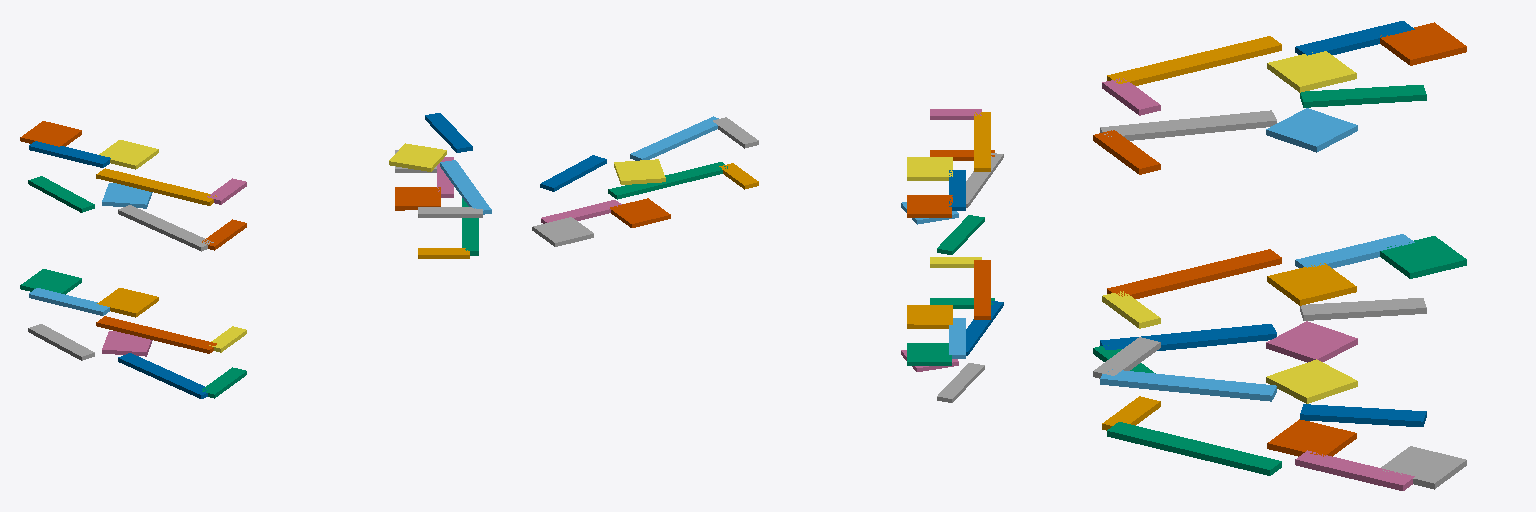
--- Render facts (derived) ---
Views: 3 orthographic renders of the robot side by side, from view 1: azimuth 30°, elevation 25°; view 2: azimuth 150°, elevation 25°; view 3: azimuth 270°, elevation 25°.
Robot: robotiq_hand — 41 links, 40 joints (39 revolute, 1 fixed); root link base_link; default pose: every joint at zero.
Visible links, largest first — view 1: l_finger_2_link_paraproximal_bar, l_finger_1_link_paraproximal_bar, l_finger_1_link_proximal_actuating_bar, l_finger_2_link_proximal_actuating_bar, l_finger_middle_link_median_actuating_hinge, l_finger_2_link_paramedian_hinge, l_finger_1_link_paramedian_hinge, l_finger_middle_link_proximal_actuating_bar, l_finger_1_link_paradistal_hinge, l_finger_middle_link_paramedian_hinge, l_finger_2_link_paradistal_hinge, l_finger_2_link_median_actuating_hinge (+11 smaller); view 2: l_finger_middle_link_paraproximal_bar, l_finger_middle_link_proximal_actuating_bar, l_finger_middle_link_paradistal_hinge, l_finger_middle_link_paramedian_hinge, l_finger_2_link_paramedian_hinge, l_finger_middle_link_median_actuating_hinge, l_finger_1_link_paramedian_hinge, l_finger_1_link_paradistal_hinge, l_finger_2_link_paraproximal_bar, l_finger_1_link_paraproximal_bar, l_finger_2_link_paradistal_hinge, l_finger_middle_link_median_bar (+9 smaller); view 3: l_finger_middle_link_paraproximal_bar, l_finger_1_link_paraproximal_bar, l_finger_2_link_paraproximal_bar, l_finger_middle_link_proximal_actuating_bar, l_finger_1_link_proximal_actuating_bar, l_finger_1_link_median_actuating_hinge, l_finger_middle_link_median_actuating_hinge, l_finger_2_link_paramedian_hinge, l_finger_2_link_median_actuating_hinge, l_finger_1_link_paramedian_hinge, l_finger_2_link_proximal_actuating_bar, l_finger_2_link_paradistal_hinge (+14 smaller).
Link boxes in pixels (bbox=[...]): l_finger_2_link_paraproximal_bar: bbox=[96, 316, 216, 353]; l_finger_1_link_paraproximal_bar: bbox=[96, 168, 216, 205]; l_finger_1_link_proximal_actuating_bar: bbox=[118, 205, 213, 251]; l_finger_2_link_proximal_actuating_bar: bbox=[118, 353, 208, 398]; l_finger_middle_link_median_actuating_hinge: bbox=[389, 143, 446, 171]; l_finger_2_link_paramedian_hinge: bbox=[97, 288, 158, 317]; l_finger_1_link_paramedian_hinge: bbox=[99, 140, 158, 169]; l_finger_middle_link_proximal_actuating_bar: bbox=[440, 160, 491, 214]; l_finger_1_link_paradistal_hinge: bbox=[20, 121, 81, 146]; l_finger_middle_link_paramedian_hinge: bbox=[395, 187, 440, 210]; l_finger_2_link_paradistal_hinge: bbox=[20, 269, 81, 294]; l_finger_2_link_median_actuating_hinge: bbox=[102, 331, 152, 356]; l_finger_middle_link_paraproximal_bar: bbox=[608, 162, 727, 199]; l_finger_middle_link_proximal_actuating_bar: bbox=[630, 116, 718, 160]; l_finger_middle_link_paradistal_hinge: bbox=[532, 217, 593, 246]; l_finger_middle_link_paramedian_hinge: bbox=[610, 198, 670, 227]; l_finger_2_link_paramedian_hinge: bbox=[907, 305, 952, 328]; l_finger_middle_link_median_actuating_hinge: bbox=[614, 159, 665, 184]; l_finger_1_link_paramedian_hinge: bbox=[907, 157, 952, 180]; l_finger_1_link_paradistal_hinge: bbox=[907, 195, 952, 217]; l_finger_2_link_paraproximal_bar: bbox=[974, 260, 990, 319]; l_finger_1_link_paraproximal_bar: bbox=[974, 112, 990, 171]; l_finger_2_link_paradistal_hinge: bbox=[907, 343, 951, 365]; l_finger_middle_link_median_bar: bbox=[540, 155, 606, 191]; l_finger_middle_link_paraproximal_bar: bbox=[1107, 422, 1281, 475]; l_finger_1_link_paraproximal_bar: bbox=[1107, 36, 1281, 85]; l_finger_2_link_paraproximal_bar: bbox=[1107, 249, 1281, 298]; l_finger_middle_link_proximal_actuating_bar: bbox=[1100, 369, 1276, 401]; l_finger_1_link_proximal_actuating_bar: bbox=[1100, 110, 1276, 140]; l_finger_1_link_median_actuating_hinge: bbox=[1266, 108, 1357, 152]; l_finger_middle_link_median_actuating_hinge: bbox=[1266, 359, 1357, 403]; l_finger_2_link_paramedian_hinge: bbox=[1267, 263, 1356, 305]; l_finger_2_link_median_actuating_hinge: bbox=[1266, 321, 1357, 362]; l_finger_1_link_paramedian_hinge: bbox=[1267, 51, 1356, 92]; l_finger_2_link_proximal_actuating_bar: bbox=[1100, 324, 1276, 350]; l_finger_2_link_paradistal_hinge: bbox=[1380, 236, 1466, 278].
Size in the robot's own frame: 0.2168 by 0.1145 by 0.094 metres.
Meshes: 5 distinct files referenced, 0 mesh visuals loaded (none loaded); not drawn: 13 (reference not matched to a file when rendering).

URDF robot description (robotiq_hand):
<?xml version="1.0" ?>
<!-- =================================================================================== -->
<!-- |    This document was autogenerated by xacro from src/robotiq_s_model_visualization/cfg/robotiq_hand.urdf.xacro | -->
<!-- |    EDITING THIS FILE BY HAND IS NOT RECOMMENDED                                 | -->
<!-- =================================================================================== -->
<robot name="robotiq_hand" xmlns:xacro="http://www.ros.org/wiki/xacro">
  <link name="base_link"/>
  <!-- joint attaching parent link to robotiq hand -->
  <joint name="l_robotiq_hand_joint" type="fixed">
    <origin rpy="0 0 0" xyz="0 0 0"/>
    <parent link="base_link"/>
    <child link="l_palm"/>
  </joint>
  <!-- Insert the fingers -->
  <!-- Link list -->
  <!-- Link 0 -->
  <link name="l_finger_1_link_0">
    <visual>
      <origin rpy="0 0 0" xyz="0 0 0"/>
      <geometry>
        <mesh filename="package://robotiq_s_model_visualization/meshes/s-model_articulated/visual/link_0.STL"/>
      </geometry>
      <material name="green">
        <color rgba="0 1 0 1"/>
      </material>
    </visual>
    <collision>
      <origin rpy="0 0 0" xyz="0 0 0"/>
      <geometry>
        <mesh filename="package://robotiq_s_model_visualization/meshes/s-model_articulated/collision/link_0.STL"/>
      </geometry>
      <material name="yellow">
        <color rgba="0 1 1 1"/>
      </material>
    </collision>
    <inertial>
      <mass value="0.1"/>
      <origin xyz="-0.01 0 0"/>
      <inertia ixx="0.000018" ixy="0" ixz="0" iyy="0.000025" iyz="0" izz="0.000025"/>
    </inertial>
  </link>
  <gazebo reference="l_finger_1_link_0">
    <mu1>1.1</mu1>
    <mu2>1.1</mu2>
  </gazebo>
  <!-- Link 1 -->
  <link name="l_finger_1_link_1">
    <visual>
      <origin rpy="0 0 1.5708" xyz="0 0.05717 0"/>
      <geometry>
        <mesh filename="package://robotiq_s_model_visualization/meshes/s-model_articulated/visual/link_1.STL"/>
      </geometry>
      <material name="green"/>
    </visual>
    <collision>
      <origin rpy="0 0 1.5708" xyz="0 0.05717 0"/>
      <geometry>
        <mesh filename="package://robotiq_s_model_visualization/meshes/s-model_articulated/collision/link_1.STL"/>
      </geometry>
      <material name="yellow">
        <color rgba="0 1 1 1"/>
      </material>
    </collision>
    <inertial>
      <origin rpy="0 0 1.5708" xyz="0.00053 0.03218 0"/>
      <mass value="0.047"/>
      <inertia ixx="0.00000499332" ixy="0.00000091312" ixz="-0.00000000120" iyy="0.00006434531" iyz="-0.00000000007" izz="0.00006061917"/>
    </inertial>
  </link>
  <gazebo reference="l_finger_1_link_1">
    <mu1>1.1</mu1>
    <mu2>1.1</mu2>
  </gazebo>
  <!-- Link 2 -->
  <link name="l_finger_1_link_2">
    <visual>
      <origin rpy="0 0 1.5708" xyz="0 0.03810 0.0075"/>
      <geometry>
        <mesh filename="package://robotiq_s_model_visualization/meshes/s-model_articulated/visual/link_2.STL"/>
      </geometry>
      <material name="green"/>
    </visual>
    <collision>
      <origin rpy="0 0 1.5708" xyz="0 0.03810 0.0075"/>
      <geometry>
        <mesh filename="package://robotiq_s_model_visualization/meshes/s-model_articulated/collision/link_2.STL"/>
      </geometry>
      <material name="yellow"/>
    </collision>
    <inertial>
      <origin rpy="0 0 1.5708" xyz="0.00048 0.02167 0.00018"/>
      <mass value="0.03284"/>
      <inertia ixx="0.00000348008" ixy="0.00000031940" ixz="0.00000013041" iyy="0.00002248123" iyz="0.00000000291" izz="0.00001986346"/>
    </inertial>
  </link>
  <gazebo reference="l_finger_1_link_2">
    <mu1>1.1</mu1>
    <mu2>1.1</mu2>
  </gazebo>
  <!-- Link 3 -->
  <link name="l_finger_1_link_3">
    <visual>
      <origin rpy="0 0 0" xyz="0 0 0"/>
      <geometry>
        <mesh filename="package://robotiq_s_model_visualization/meshes/s-model_articulated/visual/link_3.STL"/>
      </geometry>
      <material name="green"/>
    </visual>
    <collision>
      <origin rpy="0 0 0" xyz="0 0 0"/>
      <geometry>
        <mesh filename="package://robotiq_s_model_visualization/meshes/s-model_articulated/collision/link_3.STL"/>
      </geometry>
      <material name="yellow"/>
    </collision>
    <inertial>
      <origin rpy="0 0 0" xyz="0.01626 0.00049 0.0002"/>
      <mass value="0.03354"/>
      <inertia ixx="0.00000305151" ixy="0.00000089792" ixz="0.00000000249" iyy="0.00001427978" iyz="-0.00000001191" izz="0.00001264126"/>
    </inertial>
  </link>
  <gazebo reference="l_finger_1_link_3">
    <mu1>1.1</mu1>
    <mu2>1.1</mu2>
  </gazebo>
  <!-- Link proximal actuating hinge -->
  <link name="l_finger_1_link_proximal_actuating_hinge">
    <visual>
      <origin rpy="0 0 0" xyz="0.01429 0 0"/>
      <geometry>
        <box size="0.02858 .0075 .002"/>
      </geometry>
    </visual>
    <collision>
      <origin rpy="0 0 0" xyz="0.01429 0 0"/>
      <geometry>
        <box size="0.02858 .0075 .002"/>
      </geometry>
    </collision>
    <inertial>
      <origin rpy="0 0 0" xyz="0.0012 -0.00162 -0.00161"/>
      <mass value="0.02647"/>
      <inertia ixx="0.00000156447" ixy="0.000000236226" ixz="-0.00000014862" iyy="0.00000221068" iyz="-0.00000014369" izz="0.00000323175"/>
    </inertial>
  </link>
  <gazebo reference="l_finger_1_link_proximal_actuating_hinge">
    <mu1>1.1</mu1>
    <mu2>1.1</mu2>
  </gazebo>
  <!-- Link paraproximal actuating hinge -->
  <link name="l_finger_1_link_paraproximal_actuating_hinge">
    <visual>
      <origin rpy="0 0 0" xyz="0.01143 0 0"/>
      <geometry>
        <box size="0.02286 .0075 .002"/>
      </geometry>
    </visual>
    <collision>
      <origin rpy="0 0 0" xyz="0.01143 0 0"/>
      <geometry>
        <box size="0.02286 .0075 .002"/>
      </geometry>
    </collision>
    <inertial>
      <origin rpy="0 0 0" xyz="0.0064 0 0"/>
      <!-- copied from proximal_actuating_hinge -->
      <mass value="0.00362"/>
      <inertia ixx="0.00000012043" ixy="0" ixz="0" iyy="0.00000053588" iyz="0" izz="0.00000065322"/>
    </inertial>
  </link>
  <gazebo reference="l_finger_1_link_paraproximal_actuating_hinge">
    <mu1>1.1</mu1>
    <mu2>1.1</mu2>
  </gazebo>
  <!-- Link proximal actuating bar -->
  <link name="l_finger_1_link_proximal_actuating_bar">
    <visual>
      <origin rpy="0 0 0" xyz="0.026789 0 0"/>
      <geometry>
        <box size="0.05398 .0075 .002"/>
      </geometry>
    </visual>
    <collision>
      <origin rpy="0 0 0" xyz="0.026789 0 0"/>
      <geometry>
        <box size="0.05398 .0075 .002"/>
      </geometry>
    </collision>
    <inertial>
      <origin rpy="0 0 0" xyz="0.02699 -0.00122 0"/>
      <mass value="0.00659"/>
      <inertia ixx="0.00000008348" ixy="-0.0000002179" ixz="0.00000000134" iyy="0.00000719076" iyz="0" izz="0.00000718272"/>
    </inertial>
  </link>
  <gazebo reference="l_finger_1_link_proximal_actuating_bar">
    <mu1>1.1</mu1>
    <mu2>1.1</mu2>
  </gazebo>
  <!-- Link paraproximal bar -->
  <link name="l_finger_1_link_paraproximal_bar">
    <visual>
      <origin rpy="0 0 0" xyz="0.02885 0 0"/>
      <geometry>
        <box size="0.05770 .0075 .002"/>
      </geometry>
    </visual>
    <collision>
      <origin rpy="0 0 0" xyz="0.02885 0 0"/>
      <geometry>
        <box size="0.05770 .0075 .002"/>
      </geometry>
    </collision>
    <inertial>
      <origin rpy="0 0 0" xyz="0.02858 -0.00129 0"/>
      <mass value="0.00732"/>
      <inertia ixx="0.00000009065" ixy="-0.00000027047" ixz="0.00000000142" iyy="0.00000878034" iyz="0" izz="0.00000877558"/>
    </inertial>
  </link>
  <gazebo reference="l_finger_1_link_paraproximal_bar">
    <mu1>1.1</mu1>
    <mu2>1.1</mu2>
  </gazebo>
  <!-- Link median actuating hinge -->
  <link name="l_finger_1_link_median_actuating_hinge">
    <visual>
      <origin rpy="0 0 0" xyz="0 0 0"/>
      <geometry>
        <box size=".02 .02 .002"/>
      </geometry>
    </visual>
    <collision>
      <origin rpy="0 0 0" xyz="0 0 0"/>
      <geometry>
        <box size=".02 .02 .002"/>
      </geometry>
    </collision>
    <inertial>
      <origin rpy="0 0 0" xyz="0.0092 0.00514 0"/>
      <mass value="0.00359"/>
      <inertia ixx="0.00000024735" ixy="0.00000023619" ixz="0" iyy="0.00000047681" iyz="0" izz="0.00000071813"/>
    </inertial>
  </link>
  <gazebo reference="l_finger_1_link_median_actuating_hinge">
    <mu1>1.1</mu1>
    <mu2>1.1</mu2>
  </gazebo>
  <!-- Link median bar -->
  <link name="l_finger_1_link_median_bar">
    <visual>
      <origin rpy="0 0 0" xyz="0.01905 0 0"/>
      <geometry>
        <box size="0.0381 .0075 .002"/>
      </geometry>
    </visual>
    <collision>
      <origin rpy="0 0 0" xyz="0.01905 0 0"/>
      <geometry>
        <box size="0.0381 .0075 .002"/>
      </geometry>
    </collision>
    <inertial>
      <origin rpy="0 0 0" xyz="0.01905 -0.00107 0"/>
      <mass value="0.00538"/>
      <inertia ixx="0.00000006639" ixy="-0.00000010996" ixz="0.00000000094" iyy="0.00000305318" iyz="0" izz="0.00000304657"/>
    </inertial>
  </link>
  <gazebo reference="l_finger_1_link_median_bar">
    <mu1>1.1</mu1>
    <mu2>1.1</mu2>
  </gazebo>
  <!-- Link paramedian hinge -->
  <link name="l_finger_1_link_paramedian_hinge">
    <visual>
      <origin rpy="0 0 0" xyz="0 0 0"/>
      <geometry>
        <box size=".02 .02 .002"/>
      </geometry>
    </visual>
    <collision>
      <origin rpy="0 0 0" xyz="0 0 0"/>
      <geometry>
        <box size=".02 .02 .002"/>
      </geometry>
    </collision>
    <inertial>
      <origin rpy="0 0 0" xyz="-0.01025 0.00046 0"/>
      <mass value="0.00276"/>
      <inertia ixx="0.00000004213" ixy="-0.00000001491" ixz="0" iyy="0.00000050258" iyz="0" izz="0.00000054007"/>
    </inertial>
  </link>
  <gazebo reference="l_finger_1_link_paramedian_hinge">
    <mu1>1.1</mu1>
    <mu2>1.1</mu2>
  </gazebo>
  <!-- Link median bar underactuated -->
  <link name="l_finger_1_link_median_bar_underactuated">
    <visual>
      <origin rpy="0 0 0" xyz="0.01905 0 0"/>
      <geometry>
        <box size="0.0381 .0075 .002"/>
      </geometry>
    </visual>
    <collision>
      <origin rpy="0 0 0" xyz="0.01905 0 0"/>
      <geometry>
        <box size="0.0381 .0075 .002"/>
      </geometry>
    </collision>
    <inertial>
      <origin rpy="0 0 0" xyz="0.01905 -0.00107 0"/>
      <mass value="0.00538"/>
      <inertia ixx="0.00000006639" ixy="-0.00000010996" ixz="-0.00000000094" iyy="0.00000305318" iyz="0" izz="0.00000304657"/>
    </inertial>
  </link>
  <gazebo reference="l_finger_1_link_median_bar_underactuated">
    <mu1>1.1</mu1>
    <mu2>1.1</mu2>
  </gazebo>
  <!-- Link paradistal hinge -->
  <link name="l_finger_1_link_paradistal_hinge">
    <visual>
      <origin rpy="0 0 0" xyz="0 0 0"/>
      <geometry>
        <box size=".02 .02 .002"/>
      </geometry>
    </visual>
    <collision>
      <origin rpy="0 0 0" xyz="0 0 0"/>
      <geometry>
        <box size=".02 0.02 .002"/>
      </geometry>
    </collision>
    <inertial>
      <origin rpy="0 0 0" xyz="0.00548 0 0"/>
      <mass value="0.00158"/>
      <inertia ixx="0.00000001907" ixy="0" ixz="0" iyy="0.00000010970" iyz="0" izz="0.00000012610"/>
    </inertial>
  </link>
  <gazebo reference="l_finger_1_link_paradistal_hinge">
    <mu1>1.1</mu1>
    <mu2>1.1</mu2>
  </gazebo>
  <!-- End of link list -->
  <!-- Joint list -->
  <!-- Joint proximal actuating hinge -->
  <joint name="l_finger_1_joint_proximal_actuating_hinge" type="revolute">
    <parent link="l_finger_1_link_0"/>
    <child link="l_finger_1_link_proximal_actuating_hinge"/>
    <axis xyz="0 0 1"/>
    <origin rpy="0 0 -2.0906" xyz="0 0 0.01"/>
    <limit effort="100" lower="-3.1416" upper="3.1416" velocity="100"/>
  </joint>
  <gazebo reference="l_finger_1_joint_proximal_actuating_hinge">
    <implicitSpringDamper>1</implicitSpringDamper>
  </gazebo>
  <!-- Joint paraproximal actuating hinge -->
  <joint name="l_finger_1_joint_paraproximal_actuating_hinge" type="revolute">
    <parent link="l_finger_1_link_0"/>
    <child link="l_finger_1_link_paraproximal_actuating_hinge"/>
    <axis xyz="0 0 1"/>
    <origin rpy="0 0 -2.0906" xyz="0 0 -0.01"/>
    <limit effort="100" lower="-3.1416" upper="3.1416" velocity="100"/>
  </joint>
  <gazebo reference="l_finger_1_joint_paraproximal_actuating_hinge">
    <implicitSpringDamper>1</implicitSpringDamper>
  </gazebo>
  <!-- Joint proximal actuating bar -->
  <joint name="l_finger_1_joint_proximal_actuating_bar" type="revolute">
    <parent link="l_finger_1_link_proximal_actuating_hinge"/>
    <child link="l_finger_1_link_proximal_actuating_bar"/>
    <axis xyz="0 0 1"/>
    <origin rpy="0 0 1.8616" xyz="0.02858 0 0"/>
    <limit effort="100" lower="-3.1416" upper="3.1416" velocity="100"/>
  </joint>
  <gazebo reference="l_finger_1_joint_proximal_actuating_bar">
    <implicitSpringDamper>1</implicitSpringDamper>
  </gazebo>
  <!-- Joint paraproximal bar -->
  <joint name="l_finger_1_joint_paraproximal_bar" type="revolute">
    <parent link="l_finger_1_link_paraproximal_actuating_hinge"/>
    <child link="l_finger_1_link_paraproximal_bar"/>
    <axis xyz="0 0 1"/>
    <origin rpy="0 0 1.57" xyz="0.02286 0 0"/>
    <limit effort="100" lower="-3.1416" upper="3.1416" velocity="100"/>
  </joint>
  <gazebo reference="l_finger_1_joint_paraproximal_bar">
    <implicitSpringDamper>1</implicitSpringDamper>
  </gazebo>
  <!-- Joint median actuating hinge -->
  <joint name="l_finger_1_joint_median_actuating_hinge" type="revolute">
    <parent link="l_finger_1_link_1"/>
    <child link="l_finger_1_link_median_actuating_hinge"/>
    <axis xyz="0 0 1"/>
    <origin rpy="0 0 -0.37" xyz="0 0.05715 0.01"/>
    <limit effort="100" lower="-3.1416" upper="3.1416" velocity="100"/>
  </joint>
  <gazebo reference="l_finger_1_joint_median_actuating_hinge">
    <implicitSpringDamper>1</implicitSpringDamper>
  </gazebo>
  <!-- Joint paramedian hinge -->
  <joint name="l_finger_1_joint_paramedian_hinge" type="revolute">
    <parent link="l_finger_1_link_1"/>
    <child link="l_finger_1_link_paramedian_hinge"/>
    <axis xyz="0 0 1"/>
    <!-- -0.37 is hand picked, 0.9719 is hand calculated from atan(0.02381/0.01625) -->
    <origin rpy="0 0 0" xyz="0 0.05715 -0.01"/>
    <limit effort="100" lower="-3.1416" upper="3.1416" velocity="100"/>
  </joint>
  <gazebo reference="l_finger_1_joint_paramedian_hinge">
    <implicitSpringDamper>1</implicitSpringDamper>
  </gazebo>
  <!-- Joint median actuating hinge median bar -->
  <joint name="l_finger_1_joint_median_actuating_hinge_median_bar" type="revolute">
    <parent link="l_finger_1_link_median_actuating_hinge"/>
    <child link="l_finger_1_link_median_bar"/>
    <axis xyz="0 0 1"/>
    <!-- hand calc 90 deg + atan(0.01516/0.01625) -->
    <origin rpy="0 0 2.3215" xyz="0.01625 0.01516 0"/>
    <limit effort="100" lower="-3.1416" upper="3.1416" velocity="100"/>
  </joint>
  <gazebo reference="l_finger_1_joint_median_actuating_hinge_median_bar">
    <implicitSpringDamper>1</implicitSpringDamper>
  </gazebo>
  <!-- Joint paradistal hinge -->
  <joint name="l_finger_1_joint_paradistal_hinge" type="revolute">
    <parent link="l_finger_1_link_2"/>
    <child link="l_finger_1_link_paradistal_hinge"/>
    <axis xyz="0 0 1"/>
    <origin rpy="0 0 0" xyz="0 0.039 -0.01"/>
    <limit effort="100" lower="-3.1416" upper="3.1416" velocity="100"/>
  </joint>
  <gazebo reference="l_finger_1_joint_paradistal_hinge">
    <implicitSpringDamper>1</implicitSpringDamper>
  </gazebo>
  <!-- Joint paramedian hinge median bar underactuated -->
  <joint name="l_finger_1_joint_paramedian_hinge_median_bar_underactuated" type="revolute">
    <parent link="l_finger_1_link_paramedian_hinge"/>
    <child link="l_finger_1_link_median_bar_underactuated"/>
    <axis xyz="0 0 1"/>
    <!-- hand calc 90 deg + atan(0.01227/0.00329) -->
    <origin rpy="0 0 1.5708" xyz="0.01227 0.00329 0"/>
    <limit effort="100" lower="-3.1416" upper="3.1416" velocity="100"/>
  </joint>
  <gazebo reference="l_finger_1_joint_paramedian_hinge_median_bar_underactuated">
    <implicitSpringDamper>1</implicitSpringDamper>
  </gazebo>
  <!-- Joint 1 -->
  <joint name="l_finger_1_joint_1" type="revolute">
    <origin rpy="0 0 -2.0906" xyz="0 0 0"/>
    <axis xyz="0 0 1"/>
    <parent link="l_finger_1_link_0"/>
    <child link="l_finger_1_link_1"/>
    <dynamics damping="1" friction="0"/>
    <!-- Limits: [0deg.,70deg.] -->
    <limit effort="60" lower="0" upper="1.2217" velocity="-1"/>
  </joint>
  <gazebo reference="l_finger_1_joint_1">
    <implicitSpringDamper>1</implicitSpringDamper>
  </gazebo>
  <!-- Joint 2 -->
  <joint name="l_finger_1_joint_2" type="revolute">
    <parent link="l_finger_1_link_1"/>
    <child link="l_finger_1_link_2"/>
    <dynamics damping="1" friction="0"/>
    <axis xyz="0 0 1"/>
    <origin rpy="0 0 0" xyz="0 0.05715 0"/>
    <!-- Limits: [0deg.,90deg.] -->
    <limit effort="60" lower="0" upper="1.5708" velocity="-1"/>
  </joint>
  <gazebo reference="l_finger_1_joint_2">
    <implicitSpringDamper>1</implicitSpringDamper>
  </gazebo>
  <!-- Joint 3 -->
  <joint name="l_finger_1_joint_3" type="revolute">
    <parent link="l_finger_1_link_2"/>
    <child link="l_finger_1_link_3"/>
    <dynamics damping="1" friction="0"/>
    <axis xyz="0 0 1"/>
    <origin rpy="0 0 2.0906" xyz="0 0.039 0"/>
    <!-- Limits: [-38deg.,60deg.] -->
    <limit effort="60" lower="-0.6632" upper="1.0471" velocity="-1"/>
  </joint>
  <gazebo reference="l_finger_1_joint_3">
    <implicitSpringDamper>1</implicitSpringDamper>
  </gazebo>
  <!-- end of joint list -->
  <!-- coupling joints in sdf -->
  <gazebo>
    <joint name="l_finger_1_link_proximal_actuating_bar_median_actuating_hinge_couple" type="revolute">
      <parent>l_finger_1_link_median_actuating_hinge</parent>
      <child>l_finger_1_link_proximal_actuating_bar</child>
      <pose>0.05398 0 0 0 0 0</pose>
      <axis>
        <dynamics>
          <damping>0</damping>
          <friction>0</friction>
        </dynamics>
        <xyz>0 0 1</xyz>
        <!-- <use_parent_model_frame>false</use_parent_model_frame> -->
      </axis>
    </joint>
  </gazebo>
  <gazebo reference="l_finger_1_link_proximal_actuating_bar_median_actuating_hinge_couple">
    <implicitSpringDamper>1</implicitSpringDamper>
  </gazebo>
  <gazebo>
    <joint name="l_finger_1_link_median_bar_link_3_couple" type="revolute">
      <parent>l_finger_1_link_3</parent>
      <child>l_finger_1_link_median_bar</child>
      <pose>0.0381 0 0 0 0 0</pose>
      <axis>
        <dynamics>
          <damping>0</damping>
          <friction>0</friction>
        </dynamics>
        <xyz>0 0 1</xyz>
        <!-- <use_parent_model_frame>false</use_parent_model_frame> -->
      </axis>
    </joint>
  </gazebo>
  <gazebo reference="l_finger_1_link_median_bar_link_3_couple">
    <implicitSpringDamper>1</implicitSpringDamper>
  </gazebo>
  <gazebo>
    <joint name="l_finger_1_link_paramedian_bar_paradistal_hinge_couple" type="revolute">
      <parent>l_finger_1_link_paradistal_hinge</parent>
      <child>l_finger_1_link_median_bar_underactuated</child>
      <pose>0.0381 0 0 0 0 0</pose>
      <axis>
        <dynamics>
          <damping>0</damping>
          <friction>0</friction>
        </dynamics>
        <xyz>0 0 1</xyz>
        <!-- <use_parent_model_frame>false</use_parent_model_frame> -->
      </axis>
    </joint>
  </gazebo>
  <gazebo reference="l_finger_1_link_median_bar_link_3_couple">
    <implicitSpringDamper>1</implicitSpringDamper>
  </gazebo>
  <gazebo>
    <joint name="l_finger_1_link_paradistal_hinge_link_3_couple" type="revolute">
      <parent>l_finger_1_link_paradistal_hinge</parent>
      <child>l_finger_1_link_3</child>
      <pose>0.0381 0 0 0 0 0</pose>
      <axis>
        <dynamics>
          <damping>0</damping>
          <friction>0</friction>
        </dynamics>
        <xyz>0 0 1</xyz>
        <!-- <use_parent_model_frame>false</use_parent_model_frame> -->
      </axis>
    </joint>
  </gazebo>
  <gazebo reference="l_finger_1_link_paradistal_hinge_link_3_couple">
    <implicitSpringDamper>1</implicitSpringDamper>
  </gazebo>
  <gazebo>
    <joint name="l_finger_1_link_paraproximal_bar_paramedian_hinge_couple" type="revolute">
      <parent>l_finger_1_link_paramedian_hinge</parent>
      <child>l_finger_1_link_paraproximal_bar</child>
      <pose>0.05770 0 0 0 0 0</pose>
      <axis>
        <dynamics>
          <damping>0</damping>
          <friction>0</friction>
        </dynamics>
        <xyz>0 0 1</xyz>
        <!-- <use_parent_model_frame>false</use_parent_model_frame> -->
      </axis>
    </joint>
  </gazebo>
  <gazebo reference="l_finger_1_link_paraproximal_bar_paramedian_hinge_couple">
    <implicitSpringDamper>1</implicitSpringDamper>
  </gazebo>
  <!-- Link list -->
  <!-- Link 0 -->
  <link name="l_finger_2_link_0">
    <visual>
      <origin rpy="0 0 0" xyz="0 0 0"/>
      <geometry>
        <mesh filename="package://robotiq_s_model_visualization/meshes/s-model_articulated/visual/link_0.STL"/>
      </geometry>
      <material name="green">
        <color rgba="0 1 0 1"/>
      </material>
    </visual>
    <collision>
      <origin rpy="0 0 0" xyz="0 0 0"/>
      <geometry>
        <mesh filename="package://robotiq_s_model_visualization/meshes/s-model_articulated/collision/link_0.STL"/>
      </geometry>
      <material name="yellow">
        <color rgba="0 1 1 1"/>
      </material>
    </collision>
    <inertial>
      <mass value="0.1"/>
      <origin xyz="-0.01 0 0"/>
      <inertia ixx="0.000018" ixy="0" ixz="0" iyy="0.000025" iyz="0" izz="0.000025"/>
    </inertial>
  </link>
  <gazebo reference="l_finger_2_link_0">
    <mu1>1.1</mu1>
    <mu2>1.1</mu2>
  </gazebo>
  <!-- Link 1 -->
  <link name="l_finger_2_link_1">
    <visual>
      <origin rpy="0 0 1.5708" xyz="0 0.05717 0"/>
      <geometry>
        <mesh filename="package://robotiq_s_model_visualization/meshes/s-model_articulated/visual/link_1.STL"/>
      </geometry>
      <material name="green"/>
    </visual>
    <collision>
      <origin rpy="0 0 1.5708" xyz="0 0.05717 0"/>
      <geometry>
        <mesh filename="package://robotiq_s_model_visualization/meshes/s-model_articulated/collision/link_1.STL"/>
      </geometry>
      <material name="yellow">
        <color rgba="0 1 1 1"/>
      </material>
    </collision>
    <inertial>
      <origin rpy="0 0 1.5708" xyz="0.00053 0.03218 0"/>
      <mass value="0.047"/>
      <inertia ixx="0.00000499332" ixy="0.00000091312" ixz="-0.00000000120" iyy="0.00006434531" iyz="-0.00000000007" izz="0.00006061917"/>
    </inertial>
  </link>
  <gazebo reference="l_finger_2_link_1">
    <mu1>1.1</mu1>
    <mu2>1.1</mu2>
  </gazebo>
  <!-- Link 2 -->
  <link name="l_finger_2_link_2">
    <visual>
      <origin rpy="0 0 1.5708" xyz="0 0.03810 0.0075"/>
      <geometry>
        <mesh filename="package://robotiq_s_model_visualization/meshes/s-model_articulated/visual/link_2.STL"/>
      </geometry>
      <material name="green"/>
    </visual>
    <collision>
      <origin rpy="0 0 1.5708" xyz="0 0.03810 0.0075"/>
      <geometry>
        <mesh filename="package://robotiq_s_model_visualization/meshes/s-model_articulated/collision/link_2.STL"/>
      </geometry>
      <material name="yellow"/>
    </collision>
    <inertial>
      <origin rpy="0 0 1.5708" xyz="0.00048 0.02167 0.00018"/>
      <mass value="0.03284"/>
      <inertia ixx="0.00000348008" ixy="0.00000031940" ixz="0.00000013041" iyy="0.00002248123" iyz="0.00000000291" izz="0.00001986346"/>
    </inertial>
  </link>
  <gazebo reference="l_finger_2_link_2">
    <mu1>1.1</mu1>
    <mu2>1.1</mu2>
  </gazebo>
  <!-- Link 3 -->
  <link name="l_finger_2_link_3">
    <visual>
      <origin rpy="0 0 0" xyz="0 0 0"/>
      <geometry>
        <mesh filename="package://robotiq_s_model_visualization/meshes/s-model_articulated/visual/link_3.STL"/>
      </geometry>
      <material name="green"/>
    </visual>
    <collision>
      <origin rpy="0 0 0" xyz="0 0 0"/>
      <geometry>
        <mesh filename="package://robotiq_s_model_visualization/meshes/s-model_articulated/collision/link_3.STL"/>
      </geometry>
      <material name="yellow"/>
    </collision>
    <inertial>
      <origin rpy="0 0 0" xyz="0.01626 0.00049 0.0002"/>
      <mass value="0.03354"/>
      <inertia ixx="0.00000305151" ixy="0.00000089792" ixz="0.00000000249" iyy="0.00001427978" iyz="-0.00000001191" izz="0.00001264126"/>
    </inertial>
  </link>
  <gazebo reference="l_finger_2_link_3">
    <mu1>1.1</mu1>
    <mu2>1.1</mu2>
  </gazebo>
  <!-- Link proximal actuating hinge -->
  <link name="l_finger_2_link_proximal_actuating_hinge">
    <visual>
      <origin rpy="0 0 0" xyz="0.01429 0 0"/>
      <geometry>
        <box size="0.02858 .0075 .002"/>
      </geometry>
    </visual>
    <collision>
      <origin rpy="0 0 0" xyz="0.01429 0 0"/>
      <geometry>
        <box size="0.02858 .0075 .002"/>
      </geometry>
    </collision>
    <inertial>
      <origin rpy="0 0 0" xyz="0.0012 -0.00162 -0.00161"/>
      <mass value="0.02647"/>
      <inertia ixx="0.00000156447" ixy="0.000000236226" ixz="-0.00000014862" iyy="0.00000221068" iyz="-0.00000014369" izz="0.00000323175"/>
    </inertial>
  </link>
  <gazebo reference="l_finger_2_link_proximal_actuating_hinge">
    <mu1>1.1</mu1>
    <mu2>1.1</mu2>
  </gazebo>
  <!-- Link paraproximal actuating hinge -->
  <link name="l_finger_2_link_paraproximal_actuating_hinge">
    <visual>
      <origin rpy="0 0 0" xyz="0.01143 0 0"/>
      <geometry>
        <box size="0.02286 .0075 .002"/>
      </geometry>
    </visual>
    <collision>
      <origin rpy="0 0 0" xyz="0.01143 0 0"/>
      <geometry>
        <box size="0.02286 .0075 .002"/>
      </geometry>
    </collision>
    <inertial>
      <origin rpy="0 0 0" xyz="0.0064 0 0"/>
      <!-- copied from proximal_actuating_hinge -->
      <mass value="0.00362"/>
      <inertia ixx="0.00000012043" ixy="0" ixz="0" iyy="0.00000053588" iyz="0" izz="0.00000065322"/>
    </inertial>
  </link>
  <gazebo reference="l_finger_2_link_paraproximal_actuating_hinge">
    <mu1>1.1</mu1>
    <mu2>1.1</mu2>
  </gazebo>
  <!-- Link proximal actuating bar -->
  <link name="l_finger_2_link_proximal_actuating_bar">
    <visual>
      <origin rpy="0 0 0" xyz="0.026789 0 0"/>
      <geometry>
        <box size="0.05398 .0075 .002"/>
      </geometry>
    </visual>
    <collision>
      <origin rpy="0 0 0" xyz="0.026789 0 0"/>
      <geometry>
        <box size="0.05398 .0075 .002"/>
      </geometry>
    </collision>
    <inertial>
      <origin rpy="0 0 0" xyz="0.02699 -0.00122 0"/>
      <mass value="0.00659"/>
      <inertia ixx="0.00000008348" ixy="-0.0000002179" ixz="0.00000000134" iyy="0.00000719076" iyz="0" izz="0.00000718272"/>
    </inertial>
  </link>
  <gazebo reference="l_finger_2_link_proximal_actuating_bar">
    <mu1>1.1</mu1>
    <mu2>1.1</mu2>
  </gazebo>
  <!-- Link paraproximal bar -->
  <link name="l_finger_2_link_paraproximal_bar">
    <visual>
      <origin rpy="0 0 0" xyz="0.02885 0 0"/>
      <geometry>
        <box size="0.05770 .0075 .002"/>
      </geometry>
    </visual>
    <collision>
      <origin rpy="0 0 0" xyz="0.02885 0 0"/>
      <geometry>
        <box size="0.05770 .0075 .002"/>
      </geometry>
    </collision>
    <inertial>
      <origin rpy="0 0 0" xyz="0.02858 -0.00129 0"/>
      <mass value="0.00732"/>
      <inertia ixx="0.00000009065" ixy="-0.00000027047" ixz="0.00000000142" iyy="0.00000878034" iyz="0" izz="0.00000877558"/>
    </inertial>
  </link>
  <gazebo reference="l_finger_2_link_paraproximal_bar">
    <mu1>1.1</mu1>
    <mu2>1.1</mu2>
  </gazebo>
  <!-- Link median actuating hinge -->
  <link name="l_finger_2_link_median_actuating_hinge">
    <visual>
      <origin rpy="0 0 0" xyz="0 0 0"/>
      <geometry>
        <box size=".02 .02 .002"/>
      </geometry>
    </visual>
    <collision>
      <origin rpy="0 0 0" xyz="0 0 0"/>
      <geometry>
        <box size=".02 .02 .002"/>
      </geometry>
    </collision>
    <inertial>
      <origin rpy="0 0 0" xyz="0.0092 0.00514 0"/>
      <mass value="0.00359"/>
      <inertia ixx="0.00000024735" ixy="0.00000023619" ixz="0" iyy="0.00000047681" iyz="0" izz="0.00000071813"/>
    </inertial>
  </link>
  <gazebo reference="l_finger_2_link_median_actuating_hinge">
    <mu1>1.1</mu1>
    <mu2>1.1</mu2>
  </gazebo>
  <!-- Link median bar -->
  <link name="l_finger_2_link_median_bar">
    <visual>
      <origin rpy="0 0 0" xyz="0.01905 0 0"/>
      <geometry>
        <box size="0.0381 .0075 .002"/>
      </geometry>
    </visual>
    <collision>
      <origin rpy="0 0 0" xyz="0.01905 0 0"/>
      <geometry>
        <box size="0.0381 .0075 .002"/>
      </geometry>
    </collision>
    <inertial>
      <origin rpy="0 0 0" xyz="0.01905 -0.00107 0"/>
      <mass value="0.00538"/>
      <inertia ixx="0.00000006639" ixy="-0.00000010996" ixz="0.00000000094" iyy="0.00000305318" iyz="0" izz="0.00000304657"/>
    </inertial>
  </link>
  <gazebo reference="l_finger_2_link_median_bar">
    <mu1>1.1</mu1>
    <mu2>1.1</mu2>
  </gazebo>
  <!-- Link paramedian hinge -->
  <link name="l_finger_2_link_paramedian_hinge">
    <visual>
      <origin rpy="0 0 0" xyz="0 0 0"/>
      <geometry>
        <box size=".02 .02 .002"/>
      </geometry>
    </visual>
    <collision>
      <origin rpy="0 0 0" xyz="0 0 0"/>
      <geometry>
        <box size=".02 .02 .002"/>
      </geometry>
    </collision>
    <inertial>
      <origin rpy="0 0 0" xyz="-0.01025 0.00046 0"/>
      <mass value="0.00276"/>
      <inertia ixx="0.00000004213" ixy="-0.00000001491" ixz="0" iyy="0.00000050258" iyz="0" izz="0.00000054007"/>
    </inertial>
  </link>
  <gazebo reference="l_finger_2_link_paramedian_hinge">
    <mu1>1.1</mu1>
    <mu2>1.1</mu2>
  </gazebo>
  <!-- Link median bar underactuated -->
  <link name="l_finger_2_link_median_bar_underactuated">
    <visual>
      <origin rpy="0 0 0" xyz="0.01905 0 0"/>
      <geometry>
        <box size="0.0381 .0075 .002"/>
      </geometry>
    </visual>
    <collision>
      <origin rpy="0 0 0" xyz="0.01905 0 0"/>
      <geometry>
        <box size="0.0381 .0075 .002"/>
      </geometry>
    </collision>
    <inertial>
      <origin rpy="0 0 0" xyz="0.01905 -0.00107 0"/>
      <mass value="0.00538"/>
      <inertia ixx="0.00000006639" ixy="-0.00000010996" ixz="-0.00000000094" iyy="0.00000305318" iyz="0" izz="0.00000304657"/>
    </inertial>
  </link>
  <gazebo reference="l_finger_2_link_median_bar_underactuated">
    <mu1>1.1</mu1>
    <mu2>1.1</mu2>
  </gazebo>
  <!-- Link paradistal hinge -->
  <link name="l_finger_2_link_paradistal_hinge">
    <visual>
      <origin rpy="0 0 0" xyz="0 0 0"/>
      <geometry>
        <box size=".02 .02 .002"/>
      </geometry>
    </visual>
    <collision>
      <origin rpy="0 0 0" xyz="0 0 0"/>
      <geometry>
        <box size=".02 0.02 .002"/>
      </geometry>
    </collision>
    <inertial>
      <origin rpy="0 0 0" xyz="0.00548 0 0"/>
      <mass value="0.00158"/>
      <inertia ixx="0.00000001907" ixy="0" ixz="0" iyy="0.00000010970" iyz="0" izz="0.00000012610"/>
    </inertial>
  </link>
  <gazebo reference="l_finger_2_link_paradistal_hinge">
    <mu1>1.1</mu1>
    <mu2>1.1</mu2>
  </gazebo>
  <!-- End of link list -->
  <!-- Joint list -->
  <!-- Joint proximal actuating hinge -->
  <joint name="l_finger_2_joint_proximal_actuating_hinge" type="revolute">
    <parent link="l_finger_2_link_0"/>
    <child link="l_finger_2_link_proximal_actuating_hinge"/>
    <axis xyz="0 0 1"/>
    <origin rpy="0 0 -2.0906" xyz="0 0 0.01"/>
    <limit effort="100" lower="-3.1416" upper="3.1416" velocity="100"/>
  </joint>
  <gazebo reference="l_finger_2_joint_proximal_actuating_hinge">
    <implicitSpringDamper>1</implicitSpringDamper>
  </gazebo>
  <!-- Joint paraproximal actuating hinge -->
  <joint name="l_finger_2_joint_paraproximal_actuating_hinge" type="revolute">
    <parent link="l_finger_2_link_0"/>
    <child link="l_finger_2_link_paraproximal_actuating_hinge"/>
    <axis xyz="0 0 1"/>
    <origin rpy="0 0 -2.0906" xyz="0 0 -0.01"/>
    <limit effort="100" lower="-3.1416" upper="3.1416" velocity="100"/>
  </joint>
  <gazebo reference="l_finger_2_joint_paraproximal_actuating_hinge">
    <implicitSpringDamper>1</implicitSpringDamper>
  </gazebo>
  <!-- Joint proximal actuating bar -->
  <joint name="l_finger_2_joint_proximal_actuating_bar" type="revolute">
    <parent link="l_finger_2_link_proximal_actuating_hinge"/>
    <child link="l_finger_2_link_proximal_actuating_bar"/>
    <axis xyz="0 0 1"/>
    <origin rpy="0 0 1.8616" xyz="0.02858 0 0"/>
    <limit effort="100" lower="-3.1416" upper="3.1416" velocity="100"/>
  </joint>
  <gazebo reference="l_finger_2_joint_proximal_actuating_bar">
    <implicitSpringDamper>1</implicitSpringDamper>
  </gazebo>
  <!-- Joint paraproximal bar -->
  <joint name="l_finger_2_joint_paraproximal_bar" type="revolute">
    <parent link="l_finger_2_link_paraproximal_actuating_hinge"/>
    <child link="l_finger_2_link_paraproximal_bar"/>
    <axis xyz="0 0 1"/>
    <origin rpy="0 0 1.57" xyz="0.02286 0 0"/>
    <limit effort="100" lower="-3.1416" upper="3.1416" velocity="100"/>
  </joint>
  <gazebo reference="l_finger_2_joint_paraproximal_bar">
    <implicitSpringDamper>1</implicitSpringDamper>
  </gazebo>
  <!-- Joint median actuating hinge -->
  <joint name="l_finger_2_joint_median_actuating_hinge" type="revolute">
    <parent link="l_finger_2_link_1"/>
    <child link="l_finger_2_link_median_actuating_hinge"/>
    <axis xyz="0 0 1"/>
    <origin rpy="0 0 -0.37" xyz="0 0.05715 0.01"/>
    <limit effort="100" lower="-3.1416" upper="3.1416" velocity="100"/>
  </joint>
  <gazebo reference="l_finger_2_joint_median_actuating_hinge">
    <implicitSpringDamper>1</implicitSpringDamper>
  </gazebo>
  <!-- Joint paramedian hinge -->
  <joint name="l_finger_2_joint_paramedian_hinge" type="revolute">
    <parent link="l_finger_2_link_1"/>
    <child link="l_finger_2_link_paramedian_hinge"/>
    <axis xyz="0 0 1"/>
    <!-- -0.37 is hand picked, 0.9719 is hand calculated from atan(0.02381/0.01625) -->
    <origin rpy="0 0 0" xyz="0 0.05715 -0.01"/>
    <limit effort="100" lower="-3.1416" upper="3.1416" velocity="100"/>
  </joint>
  <gazebo reference="l_finger_2_joint_paramedian_hinge">
    <implicitSpringDamper>1</implicitSpringDamper>
  </gazebo>
  <!-- Joint median actuating hinge median bar -->
  <joint name="l_finger_2_joint_median_actuating_hinge_median_bar" type="revolute">
    <parent link="l_finger_2_link_median_actuating_hinge"/>
    <child link="l_finger_2_link_median_bar"/>
    <axis xyz="0 0 1"/>
    <!-- hand calc 90 deg + atan(0.01516/0.01625) -->
    <origin rpy="0 0 2.3215" xyz="0.01625 0.01516 0"/>
    <limit effort="100" lower="-3.1416" upper="3.1416" velocity="100"/>
  </joint>
  <gazebo reference="l_finger_2_joint_median_actuating_hinge_median_bar">
    <implicitSpringDamper>1</implicitSpringDamper>
  </gazebo>
  <!-- Joint paradistal hinge -->
  <joint name="l_finger_2_joint_paradistal_hinge" type="revolute">
    <parent link="l_finger_2_link_2"/>
    <child link="l_finger_2_link_paradistal_hinge"/>
    <axis xyz="0 0 1"/>
    <origin rpy="0 0 0" xyz="0 0.039 -0.01"/>
    <limit effort="100" lower="-3.1416" upper="3.1416" velocity="100"/>
  </joint>
  <gazebo reference="l_finger_2_joint_paradistal_hinge">
    <implicitSpringDamper>1</implicitSpringDamper>
  </gazebo>
  <!-- Joint paramedian hinge median bar underactuated -->
  <joint name="l_finger_2_joint_paramedian_hinge_median_bar_underactuated" type="revolute">
    <parent link="l_finger_2_link_paramedian_hinge"/>
    <child link="l_finger_2_link_median_bar_underactuated"/>
    <axis xyz="0 0 1"/>
    <!-- hand calc 90 deg + atan(0.01227/0.00329) -->
    <origin rpy="0 0 1.5708" xyz="0.01227 0.00329 0"/>
    <limit effort="100" lower="-3.1416" upper="3.1416" velocity="100"/>
  </joint>
  <gazebo reference="l_finger_2_joint_paramedian_hinge_median_bar_underactuated">
    <implicitSpringDamper>1</implicitSpringDamper>
  </gazebo>
  <!-- Joint 1 -->
  <joint name="l_finger_2_joint_1" type="revolute">
    <origin rpy="0 0 -2.0906" xyz="0 0 0"/>
    <axis xyz="0 0 1"/>
    <parent link="l_finger_2_link_0"/>
    <child link="l_finger_2_link_1"/>
    <dynamics damping="1" friction="0"/>
    <!-- Limits: [0deg.,70deg.] -->
    <limit effort="60" lower="0" upper="1.2217" velocity="-1"/>
  </joint>
  <gazebo reference="l_finger_2_joint_1">
    <implicitSpringDamper>1</implicitSpringDamper>
  </gazebo>
  <!-- Joint 2 -->
  <joint name="l_finger_2_joint_2" type="revolute">
    <parent link="l_finger_2_link_1"/>
    <child link="l_finger_2_link_2"/>
    <dynamics damping="1" friction="0"/>
    <axis xyz="0 0 1"/>
    <origin rpy="0 0 0" xyz="0 0.05715 0"/>
    <!-- Limits: [0deg.,90deg.] -->
    <limit effort="60" lower="0" upper="1.5708" velocity="-1"/>
  </joint>
  <gazebo reference="l_finger_2_joint_2">
    <implicitSpringDamper>1</implicitSpringDamper>
  </gazebo>
  <!-- Joint 3 -->
  <joint name="l_finger_2_joint_3" type="revolute">
    <parent link="l_finger_2_link_2"/>
    <child link="l_finger_2_link_3"/>
    <dynamics damping="1" friction="0"/>
    <axis xyz="0 0 1"/>
    <origin rpy="0 0 2.0906" xyz="0 0.039 0"/>
    <!-- Limits: [-38deg.,60deg.] -->
    <limit effort="60" lower="-0.6632" upper="1.0471" velocity="-1"/>
  </joint>
  <gazebo reference="l_finger_2_joint_3">
    <implicitSpringDamper>1</implicitSpringDamper>
  </gazebo>
  <!-- end of joint list -->
  <!-- coupling joints in sdf -->
  <gazebo>
    <joint name="l_finger_2_link_proximal_actuating_bar_median_actuating_hinge_couple" type="revolute">
      <parent>l_finger_2_link_median_actuating_hinge</parent>
      <child>l_finger_2_link_proximal_actuating_bar</child>
      <pose>0.05398 0 0 0 0 0</pose>
      <axis>
        <dynamics>
          <damping>0</damping>
          <friction>0</friction>
        </dynamics>
        <xyz>0 0 1</xyz>
        <!-- <use_parent_model_frame>false</use_parent_model_frame> -->
      </axis>
    </joint>
  </gazebo>
  <gazebo reference="l_finger_2_link_proximal_actuating_bar_median_actuating_hinge_couple">
    <implicitSpringDamper>1</implicitSpringDamper>
  </gazebo>
  <gazebo>
    <joint name="l_finger_2_link_median_bar_link_3_couple" type="revolute">
      <parent>l_finger_2_link_3</parent>
      <child>l_finger_2_link_median_bar</child>
      <pose>0.0381 0 0 0 0 0</pose>
      <axis>
        <dynamics>
          <damping>0</damping>
          <friction>0</friction>
        </dynamics>
        <xyz>0 0 1</xyz>
        <!-- <use_parent_model_frame>false</use_parent_model_frame> -->
      </axis>
    </joint>
  </gazebo>
  <gazebo reference="l_finger_2_link_median_bar_link_3_couple">
    <implicitSpringDamper>1</implicitSpringDamper>
  </gazebo>
  <gazebo>
    <joint name="l_finger_2_link_paramedian_bar_paradistal_hinge_couple" type="revolute">
      <parent>l_finger_2_link_paradistal_hinge</parent>
      <child>l_finger_2_link_median_bar_underactuated</child>
      <pose>0.0381 0 0 0 0 0</pose>
      <axis>
        <dynamics>
          <damping>0</damping>
          <friction>0</friction>
        </dynamics>
        <xyz>0 0 1</xyz>
        <!-- <use_parent_model_frame>false</use_parent_model_frame> -->
      </axis>
    </joint>
  </gazebo>
  <gazebo reference="l_finger_2_link_median_bar_link_3_couple">
    <implicitSpringDamper>1</implicitSpringDamper>
  </gazebo>
  <gazebo>
    <joint name="l_finger_2_link_paradistal_hinge_link_3_couple" type="revolute">
      <parent>l_finger_2_link_paradistal_hinge</parent>
      <child>l_finger_2_link_3</child>
      <pose>0.0381 0 0 0 0 0</pose>
      <axis>
        <dynamics>
          <damping>0</damping>
          <friction>0</friction>
        </dynamics>
        <xyz>0 0 1</xyz>
        <!-- <use_parent_model_frame>false</use_parent_model_frame> -->
      </axis>
    </joint>
  </gazebo>
  <gazebo reference="l_finger_2_link_paradistal_hinge_link_3_couple">
    <implicitSpringDamper>1</implicitSpringDamper>
  </gazebo>
  <gazebo>
    <joint name="l_finger_2_link_paraproximal_bar_paramedian_hinge_couple" type="revolute">
      <parent>l_finger_2_link_paramedian_hinge</parent>
      <child>l_finger_2_link_paraproximal_bar</child>
      <pose>0.05770 0 0 0 0 0</pose>
      <axis>
        <dynamics>
          <damping>0</damping>
          <friction>0</friction>
        </dynamics>
        <xyz>0 0 1</xyz>
        <!-- <use_parent_model_frame>false</use_parent_model_frame> -->
      </axis>
    </joint>
  </gazebo>
  <gazebo reference="l_finger_2_link_paraproximal_bar_paramedian_hinge_couple">
    <implicitSpringDamper>1</implicitSpringDamper>
  </gazebo>
  <!-- Link list -->
  <!-- Link 0 -->
  <link name="l_finger_middle_link_0">
    <visual>
      <origin rpy="0 0 0" xyz="0 0 0"/>
      <geometry>
        <mesh filename="package://robotiq_s_model_visualization/meshes/s-model_articulated/visual/link_0.STL"/>
      </geometry>
      <material name="green">
        <color rgba="0 1 0 1"/>
      </material>
    </visual>
    <collision>
      <origin rpy="0 0 0" xyz="0 0 0"/>
      <geometry>
        <mesh filename="package://robotiq_s_model_visualization/meshes/s-model_articulated/collision/link_0.STL"/>
      </geometry>
      <material name="yellow">
        <color rgba="0 1 1 1"/>
      </material>
    </collision>
    <inertial>
      <mass value="0.1"/>
      <origin xyz="-0.01 0 0"/>
      <inertia ixx="0.000018" ixy="0" ixz="0" iyy="0.000025" iyz="0" izz="0.000025"/>
    </inertial>
  </link>
  <gazebo reference="l_finger_middle_link_0">
    <mu1>1.1</mu1>
    <mu2>1.1</mu2>
  </gazebo>
  <!-- Link 1 -->
  <link name="l_finger_middle_link_1">
    <visual>
      <origin rpy="0 0 1.5708" xyz="0 0.05717 0"/>
      <geometry>
        <mesh filename="package://robotiq_s_model_visualization/meshes/s-model_articulated/visual/link_1.STL"/>
      </geometry>
      <material name="green"/>
    </visual>
    <collision>
      <origin rpy="0 0 1.5708" xyz="0 0.05717 0"/>
      <geometry>
        <mesh filename="package://robotiq_s_model_visualization/meshes/s-model_articulated/collision/link_1.STL"/>
      </geometry>
      <material name="yellow">
        <color rgba="0 1 1 1"/>
      </material>
    </collision>
    <inertial>
      <origin rpy="0 0 1.5708" xyz="0.00053 0.03218 0"/>
      <mass value="0.047"/>
      <inertia ixx="0.00000499332" ixy="0.00000091312" ixz="-0.00000000120" iyy="0.00006434531" iyz="-0.00000000007" izz="0.00006061917"/>
    </inertial>
  </link>
  <gazebo reference="l_finger_middle_link_1">
    <mu1>1.1</mu1>
    <mu2>1.1</mu2>
  </gazebo>
  <!-- Link 2 -->
  <link name="l_finger_middle_link_2">
    <visual>
      <origin rpy="0 0 1.5708" xyz="0 0.03810 0.0075"/>
      <geometry>
        <mesh filename="package://robotiq_s_model_visualization/meshes/s-model_articulated/visual/link_2.STL"/>
      </geometry>
      <material name="green"/>
    </visual>
    <collision>
      <origin rpy="0 0 1.5708" xyz="0 0.03810 0.0075"/>
      <geometry>
        <mesh filename="package://robotiq_s_model_visualization/meshes/s-model_articulated/collision/link_2.STL"/>
      </geometry>
      <material name="yellow"/>
    </collision>
    <inertial>
      <origin rpy="0 0 1.5708" xyz="0.00048 0.02167 0.00018"/>
      <mass value="0.03284"/>
      <inertia ixx="0.00000348008" ixy="0.00000031940" ixz="0.00000013041" iyy="0.00002248123" iyz="0.00000000291" izz="0.00001986346"/>
    </inertial>
  </link>
  <gazebo reference="l_finger_middle_link_2">
    <mu1>1.1</mu1>
    <mu2>1.1</mu2>
  </gazebo>
  <!-- Link 3 -->
  <link name="l_finger_middle_link_3">
    <visual>
      <origin rpy="0 0 0" xyz="0 0 0"/>
      <geometry>
        <mesh filename="package://robotiq_s_model_visualization/meshes/s-model_articulated/visual/link_3.STL"/>
      </geometry>
      <material name="green"/>
    </visual>
    <collision>
      <origin rpy="0 0 0" xyz="0 0 0"/>
      <geometry>
        <mesh filename="package://robotiq_s_model_visualization/meshes/s-model_articulated/collision/link_3.STL"/>
      </geometry>
      <material name="yellow"/>
    </collision>
    <inertial>
      <origin rpy="0 0 0" xyz="0.01626 0.00049 0.0002"/>
      <mass value="0.03354"/>
      <inertia ixx="0.00000305151" ixy="0.00000089792" ixz="0.00000000249" iyy="0.00001427978" iyz="-0.00000001191" izz="0.00001264126"/>
    </inertial>
  </link>
  <gazebo reference="l_finger_middle_link_3">
    <mu1>1.1</mu1>
    <mu2>1.1</mu2>
  </gazebo>
  <!-- Link proximal actuating hinge -->
  <link name="l_finger_middle_link_proximal_actuating_hinge">
    <visual>
      <origin rpy="0 0 0" xyz="0.01429 0 0"/>
      <geometry>
        <box size="0.02858 .0075 .002"/>
      </geometry>
    </visual>
    <collision>
      <origin rpy="0 0 0" xyz="0.01429 0 0"/>
      <geometry>
        <box size="0.02858 .0075 .002"/>
      </geometry>
    </collision>
    <inertial>
      <origin rpy="0 0 0" xyz="0.0012 -0.00162 -0.00161"/>
      <mass value="0.02647"/>
      <inertia ixx="0.00000156447" ixy="0.000000236226" ixz="-0.00000014862" iyy="0.00000221068" iyz="-0.00000014369" izz="0.00000323175"/>
    </inertial>
  </link>
  <gazebo reference="l_finger_middle_link_proximal_actuating_hinge">
    <mu1>1.1</mu1>
    <mu2>1.1</mu2>
  </gazebo>
  <!-- Link paraproximal actuating hinge -->
  <link name="l_finger_middle_link_paraproximal_actuating_hinge">
    <visual>
      <origin rpy="0 0 0" xyz="0.01143 0 0"/>
      <geometry>
        <box size="0.02286 .0075 .002"/>
      </geometry>
    </visual>
    <collision>
      <origin rpy="0 0 0" xyz="0.01143 0 0"/>
      <geometry>
        <box size="0.02286 .0075 .002"/>
      </geometry>
    </collision>
    <inertial>
      <origin rpy="0 0 0" xyz="0.0064 0 0"/>
      <!-- copied from proximal_actuating_hinge -->
      <mass value="0.00362"/>
      <inertia ixx="0.00000012043" ixy="0" ixz="0" iyy="0.00000053588" iyz="0" izz="0.00000065322"/>
    </inertial>
  </link>
  <gazebo reference="l_finger_middle_link_paraproximal_actuating_hinge">
    <mu1>1.1</mu1>
    <mu2>1.1</mu2>
  </gazebo>
  <!-- Link proximal actuating bar -->
  <link name="l_finger_middle_link_proximal_actuating_bar">
    <visual>
      <origin rpy="0 0 0" xyz="0.026789 0 0"/>
      <geometry>
        <box size="0.05398 .0075 .002"/>
      </geometry>
    </visual>
    <collision>
      <origin rpy="0 0 0" xyz="0.026789 0 0"/>
      <geometry>
        <box size="0.05398 .0075 .002"/>
      </geometry>
    </collision>
    <inertial>
      <origin rpy="0 0 0" xyz="0.02699 -0.00122 0"/>
      <mass value="0.00659"/>
      <inertia ixx="0.00000008348" ixy="-0.0000002179" ixz="0.00000000134" iyy="0.00000719076" iyz="0" izz="0.00000718272"/>
    </inertial>
  </link>
  <gazebo reference="l_finger_middle_link_proximal_actuating_bar">
    <mu1>1.1</mu1>
    <mu2>1.1</mu2>
  </gazebo>
  <!-- Link paraproximal bar -->
  <link name="l_finger_middle_link_paraproximal_bar">
    <visual>
      <origin rpy="0 0 0" xyz="0.02885 0 0"/>
      <geometry>
        <box size="0.05770 .0075 .002"/>
      </geometry>
    </visual>
    <collision>
      <origin rpy="0 0 0" xyz="0.02885 0 0"/>
      <geometry>
        <box size="0.05770 .0075 .002"/>
      </geometry>
    </collision>
    <inertial>
      <origin rpy="0 0 0" xyz="0.02858 -0.00129 0"/>
      <mass value="0.00732"/>
      <inertia ixx="0.00000009065" ixy="-0.00000027047" ixz="0.00000000142" iyy="0.00000878034" iyz="0" izz="0.00000877558"/>
    </inertial>
  </link>
  <gazebo reference="l_finger_middle_link_paraproximal_bar">
    <mu1>1.1</mu1>
    <mu2>1.1</mu2>
  </gazebo>
  <!-- Link median actuating hinge -->
  <link name="l_finger_middle_link_median_actuating_hinge">
    <visual>
      <origin rpy="0 0 0" xyz="0 0 0"/>
      <geometry>
        <box size=".02 .02 .002"/>
      </geometry>
    </visual>
    <collision>
      <origin rpy="0 0 0" xyz="0 0 0"/>
      <geometry>
        <box size=".02 .02 .002"/>
      </geometry>
    </collision>
    <inertial>
      <origin rpy="0 0 0" xyz="0.0092 0.00514 0"/>
      <mass value="0.00359"/>
      <inertia ixx="0.00000024735" ixy="0.00000023619" ixz="0" iyy="0.00000047681" iyz="0" izz="0.00000071813"/>
    </inertial>
  </link>
  <gazebo reference="l_finger_middle_link_median_actuating_hinge">
    <mu1>1.1</mu1>
    <mu2>1.1</mu2>
  </gazebo>
  <!-- Link median bar -->
  <link name="l_finger_middle_link_median_bar">
    <visual>
      <origin rpy="0 0 0" xyz="0.01905 0 0"/>
      <geometry>
        <box size="0.0381 .0075 .002"/>
      </geometry>
    </visual>
    <collision>
      <origin rpy="0 0 0" xyz="0.01905 0 0"/>
      <geometry>
        <box size="0.0381 .0075 .002"/>
      </geometry>
    </collision>
    <inertial>
      <origin rpy="0 0 0" xyz="0.01905 -0.00107 0"/>
      <mass value="0.00538"/>
      <inertia ixx="0.00000006639" ixy="-0.00000010996" ixz="0.00000000094" iyy="0.00000305318" iyz="0" izz="0.00000304657"/>
    </inertial>
  </link>
  <gazebo reference="l_finger_middle_link_median_bar">
    <mu1>1.1</mu1>
    <mu2>1.1</mu2>
  </gazebo>
  <!-- Link paramedian hinge -->
  <link name="l_finger_middle_link_paramedian_hinge">
    <visual>
      <origin rpy="0 0 0" xyz="0 0 0"/>
      <geometry>
        <box size=".02 .02 .002"/>
      </geometry>
    </visual>
    <collision>
      <origin rpy="0 0 0" xyz="0 0 0"/>
      <geometry>
        <box size=".02 .02 .002"/>
      </geometry>
    </collision>
    <inertial>
      <origin rpy="0 0 0" xyz="-0.01025 0.00046 0"/>
      <mass value="0.00276"/>
      <inertia ixx="0.00000004213" ixy="-0.00000001491" ixz="0" iyy="0.00000050258" iyz="0" izz="0.00000054007"/>
    </inertial>
  </link>
  <gazebo reference="l_finger_middle_link_paramedian_hinge">
    <mu1>1.1</mu1>
    <mu2>1.1</mu2>
  </gazebo>
  <!-- Link median bar underactuated -->
  <link name="l_finger_middle_link_median_bar_underactuated">
    <visual>
      <origin rpy="0 0 0" xyz="0.01905 0 0"/>
      <geometry>
        <box size="0.0381 .0075 .002"/>
      </geometry>
    </visual>
    <collision>
      <origin rpy="0 0 0" xyz="0.01905 0 0"/>
      <geometry>
        <box size="0.0381 .0075 .002"/>
      </geometry>
    </collision>
    <inertial>
      <origin rpy="0 0 0" xyz="0.01905 -0.00107 0"/>
      <mass value="0.00538"/>
      <inertia ixx="0.00000006639" ixy="-0.00000010996" ixz="-0.00000000094" iyy="0.00000305318" iyz="0" izz="0.00000304657"/>
    </inertial>
  </link>
  <gazebo reference="l_finger_middle_link_median_bar_underactuated">
    <mu1>1.1</mu1>
    <mu2>1.1</mu2>
  </gazebo>
  <!-- Link paradistal hinge -->
  <link name="l_finger_middle_link_paradistal_hinge">
    <visual>
      <origin rpy="0 0 0" xyz="0 0 0"/>
      <geometry>
        <box size=".02 .02 .002"/>
      </geometry>
    </visual>
    <collision>
      <origin rpy="0 0 0" xyz="0 0 0"/>
      <geometry>
        <box size=".02 0.02 .002"/>
      </geometry>
    </collision>
    <inertial>
      <origin rpy="0 0 0" xyz="0.00548 0 0"/>
      <mass value="0.00158"/>
      <inertia ixx="0.00000001907" ixy="0" ixz="0" iyy="0.00000010970" iyz="0" izz="0.00000012610"/>
    </inertial>
  </link>
  <gazebo reference="l_finger_middle_link_paradistal_hinge">
    <mu1>1.1</mu1>
    <mu2>1.1</mu2>
  </gazebo>
  <!-- End of link list -->
  <!-- Joint list -->
  <!-- Joint proximal actuating hinge -->
  <joint name="l_finger_middle_joint_proximal_actuating_hinge" type="revolute">
    <parent link="l_finger_middle_link_0"/>
    <child link="l_finger_middle_link_proximal_actuating_hinge"/>
    <axis xyz="0 0 1"/>
    <origin rpy="0 0 -2.0906" xyz="0 0 0.01"/>
    <limit effort="100" lower="-3.1416" upper="3.1416" velocity="100"/>
  </joint>
  <gazebo reference="l_finger_middle_joint_proximal_actuating_hinge">
    <implicitSpringDamper>1</implicitSpringDamper>
  </gazebo>
  <!-- Joint paraproximal actuating hinge -->
  <joint name="l_finger_middle_joint_paraproximal_actuating_hinge" type="revolute">
    <parent link="l_finger_middle_link_0"/>
    <child link="l_finger_middle_link_paraproximal_actuating_hinge"/>
    <axis xyz="0 0 1"/>
    <origin rpy="0 0 -2.0906" xyz="0 0 -0.01"/>
    <limit effort="100" lower="-3.1416" upper="3.1416" velocity="100"/>
  </joint>
  <gazebo reference="l_finger_middle_joint_paraproximal_actuating_hinge">
    <implicitSpringDamper>1</implicitSpringDamper>
  </gazebo>
  <!-- Joint proximal actuating bar -->
  <joint name="l_finger_middle_joint_proximal_actuating_bar" type="revolute">
    <parent link="l_finger_middle_link_proximal_actuating_hinge"/>
    <child link="l_finger_middle_link_proximal_actuating_bar"/>
    <axis xyz="0 0 1"/>
    <origin rpy="0 0 1.8616" xyz="0.02858 0 0"/>
    <limit effort="100" lower="-3.1416" upper="3.1416" velocity="100"/>
  </joint>
  <gazebo reference="l_finger_middle_joint_proximal_actuating_bar">
    <implicitSpringDamper>1</implicitSpringDamper>
  </gazebo>
  <!-- Joint paraproximal bar -->
  <joint name="l_finger_middle_joint_paraproximal_bar" type="revolute">
    <parent link="l_finger_middle_link_paraproximal_actuating_hinge"/>
    <child link="l_finger_middle_link_paraproximal_bar"/>
    <axis xyz="0 0 1"/>
    <origin rpy="0 0 1.57" xyz="0.02286 0 0"/>
    <limit effort="100" lower="-3.1416" upper="3.1416" velocity="100"/>
  </joint>
  <gazebo reference="l_finger_middle_joint_paraproximal_bar">
    <implicitSpringDamper>1</implicitSpringDamper>
  </gazebo>
  <!-- Joint median actuating hinge -->
  <joint name="l_finger_middle_joint_median_actuating_hinge" type="revolute">
    <parent link="l_finger_middle_link_1"/>
    <child link="l_finger_middle_link_median_actuating_hinge"/>
    <axis xyz="0 0 1"/>
    <origin rpy="0 0 -0.37" xyz="0 0.05715 0.01"/>
    <limit effort="100" lower="-3.1416" upper="3.1416" velocity="100"/>
  </joint>
  <gazebo reference="l_finger_middle_joint_median_actuating_hinge">
    <implicitSpringDamper>1</implicitSpringDamper>
  </gazebo>
  <!-- Joint paramedian hinge -->
  <joint name="l_finger_middle_joint_paramedian_hinge" type="revolute">
    <parent link="l_finger_middle_link_1"/>
    <child link="l_finger_middle_link_paramedian_hinge"/>
    <axis xyz="0 0 1"/>
    <!-- -0.37 is hand picked, 0.9719 is hand calculated from atan(0.02381/0.01625) -->
    <origin rpy="0 0 0" xyz="0 0.05715 -0.01"/>
    <limit effort="100" lower="-3.1416" upper="3.1416" velocity="100"/>
  </joint>
  <gazebo reference="l_finger_middle_joint_paramedian_hinge">
    <implicitSpringDamper>1</implicitSpringDamper>
  </gazebo>
  <!-- Joint median actuating hinge median bar -->
  <joint name="l_finger_middle_joint_median_actuating_hinge_median_bar" type="revolute">
    <parent link="l_finger_middle_link_median_actuating_hinge"/>
    <child link="l_finger_middle_link_median_bar"/>
    <axis xyz="0 0 1"/>
    <!-- hand calc 90 deg + atan(0.01516/0.01625) -->
    <origin rpy="0 0 2.3215" xyz="0.01625 0.01516 0"/>
    <limit effort="100" lower="-3.1416" upper="3.1416" velocity="100"/>
  </joint>
  <gazebo reference="l_finger_middle_joint_median_actuating_hinge_median_bar">
    <implicitSpringDamper>1</implicitSpringDamper>
  </gazebo>
  <!-- Joint paradistal hinge -->
  <joint name="l_finger_middle_joint_paradistal_hinge" type="revolute">
    <parent link="l_finger_middle_link_2"/>
    <child link="l_finger_middle_link_paradistal_hinge"/>
    <axis xyz="0 0 1"/>
    <origin rpy="0 0 0" xyz="0 0.039 -0.01"/>
    <limit effort="100" lower="-3.1416" upper="3.1416" velocity="100"/>
  </joint>
  <gazebo reference="l_finger_middle_joint_paradistal_hinge">
    <implicitSpringDamper>1</implicitSpringDamper>
  </gazebo>
  <!-- Joint paramedian hinge median bar underactuated -->
  <joint name="l_finger_middle_joint_paramedian_hinge_median_bar_underactuated" type="revolute">
    <parent link="l_finger_middle_link_paramedian_hinge"/>
    <child link="l_finger_middle_link_median_bar_underactuated"/>
    <axis xyz="0 0 1"/>
    <!-- hand calc 90 deg + atan(0.01227/0.00329) -->
    <origin rpy="0 0 1.5708" xyz="0.01227 0.00329 0"/>
    <limit effort="100" lower="-3.1416" upper="3.1416" velocity="100"/>
  </joint>
  <gazebo reference="l_finger_middle_joint_paramedian_hinge_median_bar_underactuated">
    <implicitSpringDamper>1</implicitSpringDamper>
  </gazebo>
  <!-- Joint 1 -->
  <joint name="l_finger_middle_joint_1" type="revolute">
    <origin rpy="0 0 -2.0906" xyz="0 0 0"/>
    <axis xyz="0 0 1"/>
    <parent link="l_finger_middle_link_0"/>
    <child link="l_finger_middle_link_1"/>
    <dynamics damping="1" friction="0"/>
    <!-- Limits: [0deg.,70deg.] -->
    <limit effort="60" lower="0" upper="1.2217" velocity="-1"/>
  </joint>
  <gazebo reference="l_finger_middle_joint_1">
    <implicitSpringDamper>1</implicitSpringDamper>
  </gazebo>
  <!-- Joint 2 -->
  <joint name="l_finger_middle_joint_2" type="revolute">
    <parent link="l_finger_middle_link_1"/>
    <child link="l_finger_middle_link_2"/>
    <dynamics damping="1" friction="0"/>
    <axis xyz="0 0 1"/>
    <origin rpy="0 0 0" xyz="0 0.05715 0"/>
    <!-- Limits: [0deg.,90deg.] -->
    <limit effort="60" lower="0" upper="1.5708" velocity="-1"/>
  </joint>
  <gazebo reference="l_finger_middle_joint_2">
    <implicitSpringDamper>1</implicitSpringDamper>
  </gazebo>
  <!-- Joint 3 -->
  <joint name="l_finger_middle_joint_3" type="revolute">
    <parent link="l_finger_middle_link_2"/>
    <child link="l_finger_middle_link_3"/>
    <dynamics damping="1" friction="0"/>
    <axis xyz="0 0 1"/>
    <origin rpy="0 0 2.0906" xyz="0 0.039 0"/>
    <!-- Limits: [-38deg.,60deg.] -->
    <limit effort="60" lower="-0.6632" upper="1.0471" velocity="-1"/>
  </joint>
  <gazebo reference="l_finger_middle_joint_3">
    <implicitSpringDamper>1</implicitSpringDamper>
  </gazebo>
  <!-- end of joint list -->
  <!-- coupling joints in sdf -->
  <gazebo>
    <joint name="l_finger_middle_link_proximal_actuating_bar_median_actuating_hinge_couple" type="revolute">
      <parent>l_finger_middle_link_median_actuating_hinge</parent>
      <child>l_finger_middle_link_proximal_actuating_bar</child>
      <pose>0.05398 0 0 0 0 0</pose>
      <axis>
        <dynamics>
          <damping>0</damping>
          <friction>0</friction>
        </dynamics>
        <xyz>0 0 1</xyz>
        <!-- <use_parent_model_frame>false</use_parent_model_frame> -->
      </axis>
    </joint>
  </gazebo>
  <gazebo reference="l_finger_middle_link_proximal_actuating_bar_median_actuating_hinge_couple">
    <implicitSpringDamper>1</implicitSpringDamper>
  </gazebo>
  <gazebo>
    <joint name="l_finger_middle_link_median_bar_link_3_couple" type="revolute">
      <parent>l_finger_middle_link_3</parent>
      <child>l_finger_middle_link_median_bar</child>
      <pose>0.0381 0 0 0 0 0</pose>
      <axis>
        <dynamics>
          <damping>0</damping>
          <friction>0</friction>
        </dynamics>
        <xyz>0 0 1</xyz>
        <!-- <use_parent_model_frame>false</use_parent_model_frame> -->
      </axis>
    </joint>
  </gazebo>
  <gazebo reference="l_finger_middle_link_median_bar_link_3_couple">
    <implicitSpringDamper>1</implicitSpringDamper>
  </gazebo>
  <gazebo>
    <joint name="l_finger_middle_link_paramedian_bar_paradistal_hinge_couple" type="revolute">
      <parent>l_finger_middle_link_paradistal_hinge</parent>
      <child>l_finger_middle_link_median_bar_underactuated</child>
      <pose>0.0381 0 0 0 0 0</pose>
      <axis>
        <dynamics>
          <damping>0</damping>
          <friction>0</friction>
        </dynamics>
        <xyz>0 0 1</xyz>
        <!-- <use_parent_model_frame>false</use_parent_model_frame> -->
      </axis>
    </joint>
  </gazebo>
  <gazebo reference="l_finger_middle_link_median_bar_link_3_couple">
    <implicitSpringDamper>1</implicitSpringDamper>
  </gazebo>
  <gazebo>
    <joint name="l_finger_middle_link_paradistal_hinge_link_3_couple" type="revolute">
      <parent>l_finger_middle_link_paradistal_hinge</parent>
      <child>l_finger_middle_link_3</child>
      <pose>0.0381 0 0 0 0 0</pose>
      <axis>
        <dynamics>
          <damping>0</damping>
          <friction>0</friction>
        </dynamics>
        <xyz>0 0 1</xyz>
        <!-- <use_parent_model_frame>false</use_parent_model_frame> -->
      </axis>
    </joint>
  </gazebo>
  <gazebo reference="l_finger_middle_link_paradistal_hinge_link_3_couple">
    <implicitSpringDamper>1</implicitSpringDamper>
  </gazebo>
  <gazebo>
    <joint name="l_finger_middle_link_paraproximal_bar_paramedian_hinge_couple" type="revolute">
      <parent>l_finger_middle_link_paramedian_hinge</parent>
      <child>l_finger_middle_link_paraproximal_bar</child>
      <pose>0.05770 0 0 0 0 0</pose>
      <axis>
        <dynamics>
          <damping>0</damping>
          <friction>0</friction>
        </dynamics>
        <xyz>0 0 1</xyz>
        <!-- <use_parent_model_frame>false</use_parent_model_frame> -->
      </axis>
    </joint>
  </gazebo>
  <gazebo reference="l_finger_middle_link_paraproximal_bar_paramedian_hinge_couple">
    <implicitSpringDamper>1</implicitSpringDamper>
  </gazebo>
  <!-- link list -->
  <!-- Link palm -->
  <link name="l_palm">
    <visual>
      <geometry>
        <mesh filename="package://robotiq_s_model_visualization/meshes/s-model_articulated/visual/palm.STL"/>
      </geometry>
      <material name="green">
        <color rgba="0 1 0 1"/>
      </material>
    </visual>
    <!-- Simple shape collision -->
    <collision>
      <origin rpy="0 0 0" xyz="0 0 0"/>
      <geometry>
        <box size="0.1 0.1 0.1"/>
      </geometry>
      <material name="yellow">
        <color rgba="0 1 1 1"/>
      </material>
    </collision>
    <inertial>
      <origin rpy="0 0 0" xyz="0 0 0"/>
      <mass value="1.3"/>
      <inertia ixx="0.0035" ixy="0" ixz="-0" iyy="0.0035" iyz="0" izz="0.0035"/>
    </inertial>
  </link>
  <gazebo reference="l_palm">
    <mu1>1.1</mu1>
    <mu2>1.1</mu2>
  </gazebo>
  <!-- End of link list -->
  <!-- Joint list -->
  <!-- Joint palm_finger_1_joint -->
  <joint name="l_palm_finger_1_joint" type="revolute">
    <parent link="l_palm"/>
    <child link="l_finger_1_link_0"/>
    <dynamics damping="1" friction="0"/>
    <axis xyz="0 1 0"/>
    <origin rpy="0 3.1416 -1.57" xyz="-0.0455 0.0214 0.036"/>
    <!-- Limits: [-17deg.,17deg.] -->
    <limit effort="60" lower="-0.2967" upper="0.2967" velocity="-1"/>
  </joint>
  <gazebo reference="l_palm_finger_1_joint">
    <implicitSpringDamper>1</implicitSpringDamper>
  </gazebo>
  <!-- Joint palm_finger_2_joint -->
  <joint name="l_palm_finger_2_joint" type="revolute">
    <parent link="l_palm"/>
    <child link="l_finger_2_link_0"/>
    <dynamics damping="1" friction="0"/>
    <axis xyz="0 1 0"/>
    <origin rpy="0 3.1416 -1.57" xyz="-0.0455 0.0214 -0.036"/>
    <!-- Limits: [-17deg.,17deg.] -->
    <limit effort="60" lower="-0.2967" upper="0.2967" velocity="-1"/>
  </joint>
  <gazebo reference="l_palm_finger_2_joint">
    <implicitSpringDamper>1</implicitSpringDamper>
  </gazebo>
  <!-- Joint palm_finger_middle_joint -->
  <joint name="l_palm_finger_middle_joint" type="revolute">
    <parent link="l_palm"/>
    <child link="l_finger_middle_link_0"/>
    <dynamics damping="1" friction="0"/>
    <axis xyz="0 1 0"/>
    <origin rpy="0 0 1.57" xyz="0.0455 0.0214 0"/>
    <limit effort="60" lower="0" upper="0" velocity="-1"/>
  </joint>
  <gazebo reference="l_palm_finger_middle_joint">
    <implicitSpringDamper>1</implicitSpringDamper>
  </gazebo>
  <!-- end of joint list -->
  <gazebo>
    <!-- plugin for left RobotiQ hand -->
    <plugin filename="libRobotiqHandPlugin.so" name="left_robotiq_hand_plugin">
      <side>left</side>
      <kp_position>10.0</kp_position>
      <kd_position>0.5</kd_position>
    </plugin>
  </gazebo>
</robot>
